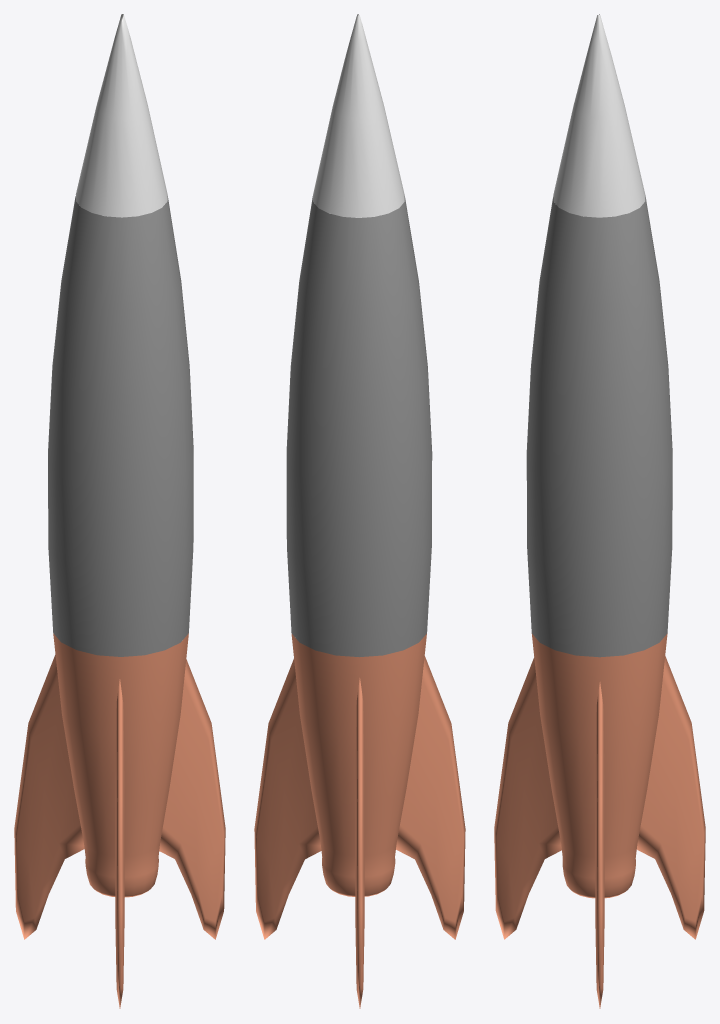
File: Rocket - Launch.glb
The picture shows the model from 3 angles, left to right: view 1: azimuth 30°, elevation 25°; view 2: azimuth 150°, elevation 25°; view 3: azimuth 270°, elevation 25°; orthographic projection.
Parts seen in each view (by area): view 1: rockt_1, rockt_2; view 2: rockt_1, rockt_2; view 3: rockt_1, rockt_2.
Boxes of the visible parts, x1,y1,x2,y2 form: rockt_1: [48, 196, 193, 656]; rockt_2: [14, 14, 225, 1008]; rockt_1: [286, 196, 432, 657]; rockt_2: [254, 14, 465, 1008]; rockt_1: [526, 195, 672, 657]; rockt_2: [494, 14, 705, 1008].
Size of the model in its own units: 2.11 by 11.34 by 2.29.
3 materials, 2 textured.
